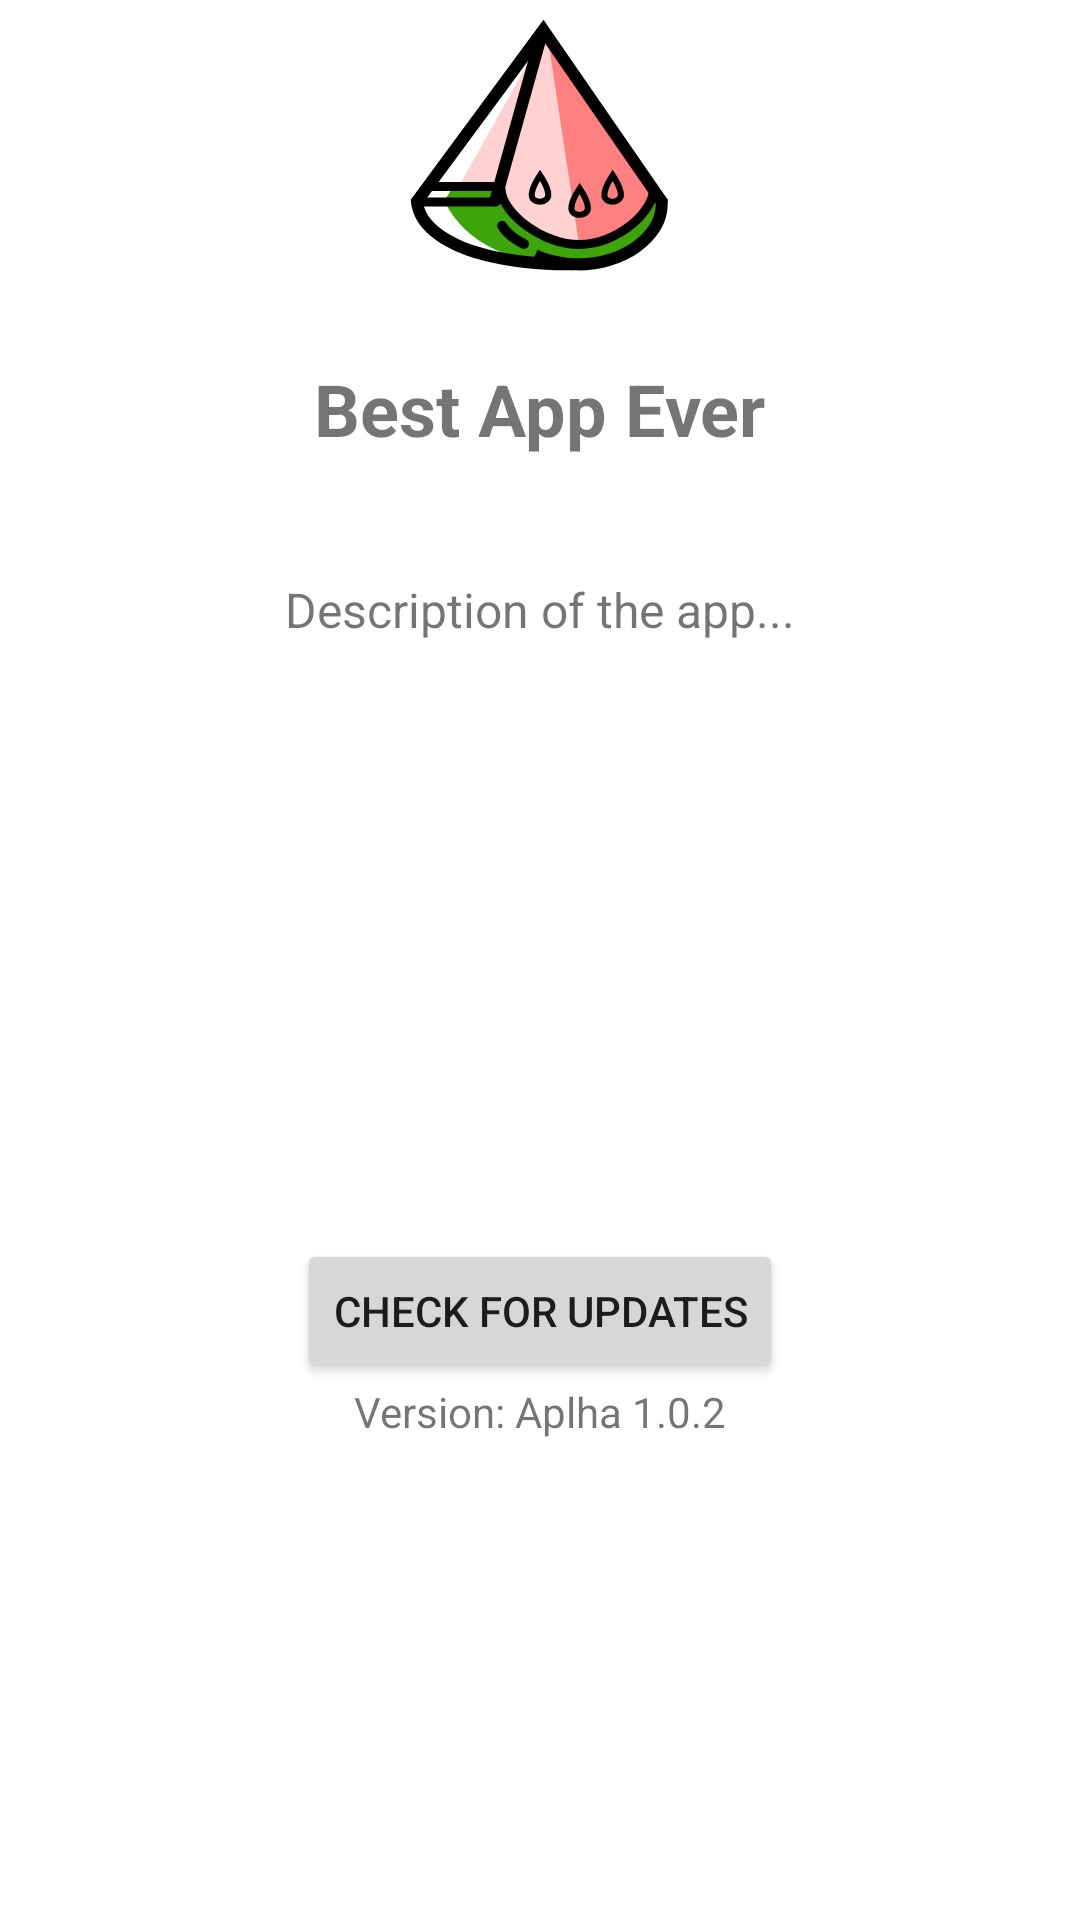

Where to tap for icons on this 1080x1920 app screen, as point (x, y):
watermelon: point (539, 145)
